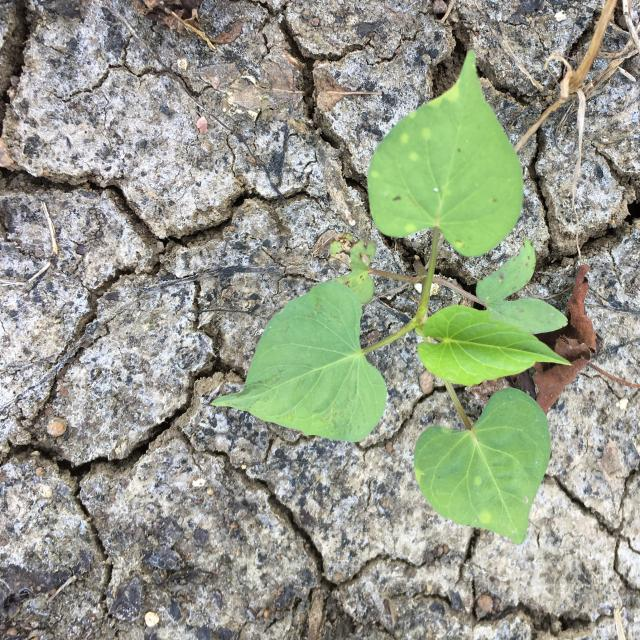MorningGlory: (210, 47, 573, 547)
